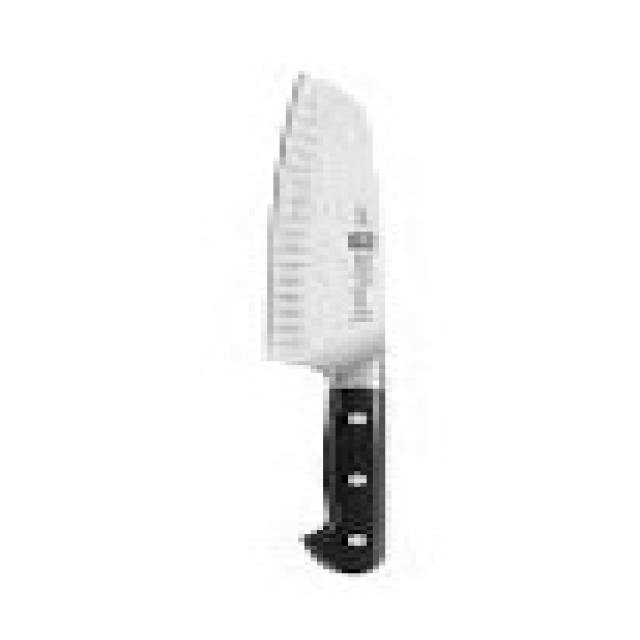knife: (261, 67, 401, 586)
